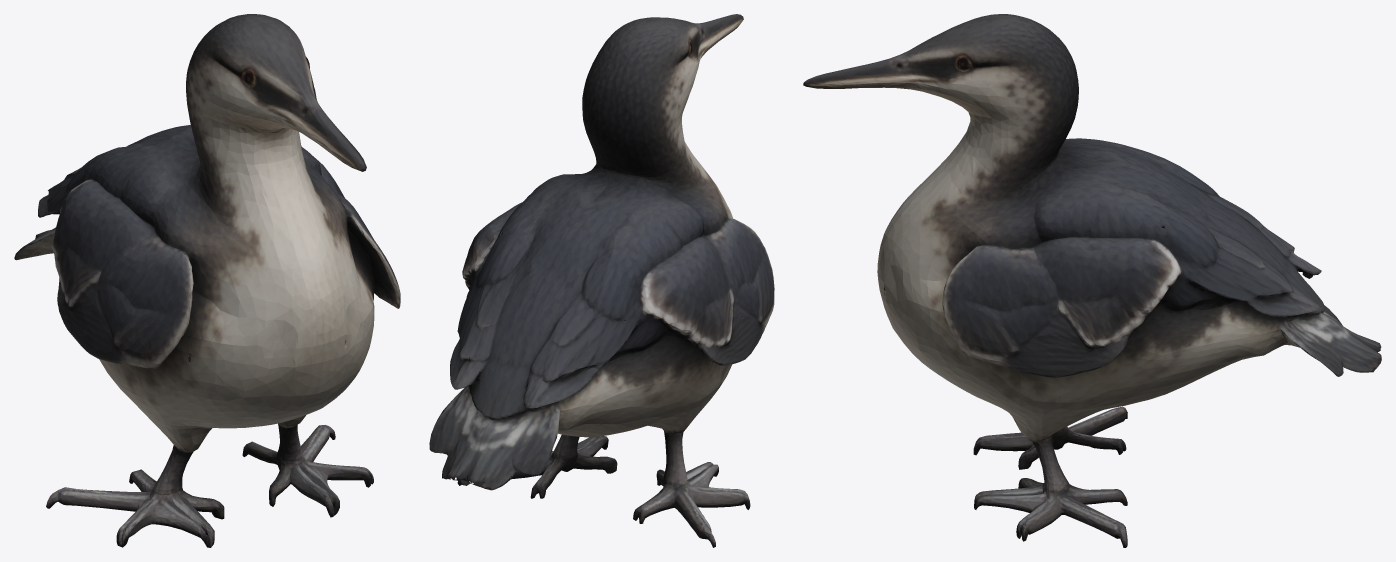
3 views of the same model, side by side, from view 1: azimuth 30°, elevation 25°; view 2: azimuth 150°, elevation 25°; view 3: azimuth 270°, elevation 25° (orthographic). The views are drawn at different scales.
Visible parts, largest first — view 1: world; view 2: world; view 3: world.
Part boxes in pixels (<box>): world: <box>14,14,400,547</box>; world: <box>429,14,774,547</box>; world: <box>803,14,1381,547</box>.
Bounding box in the file's own units: 0.2936 × 0.4894 × 0.55.
1 material, 1 textured.
